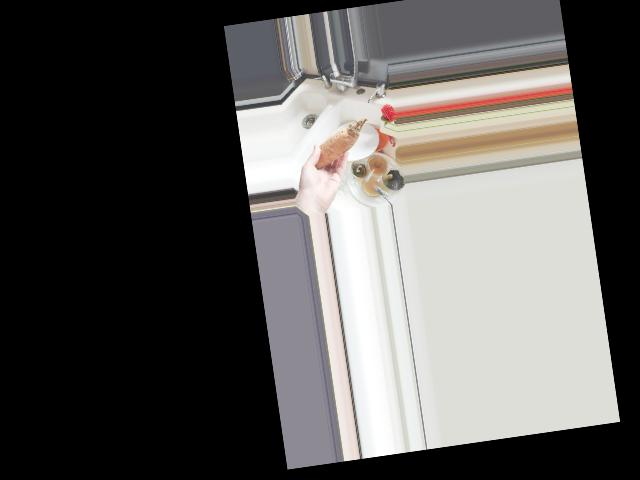sweet_potato: (304, 117, 375, 174)
